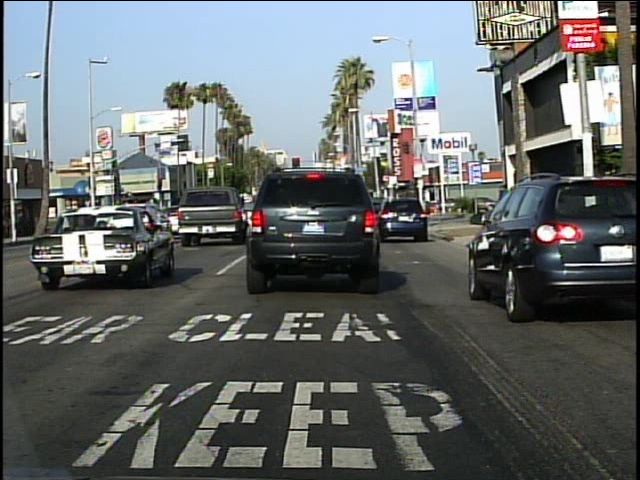car: (457, 168, 633, 322), (249, 174, 383, 295), (30, 210, 180, 285), (177, 185, 252, 246), (379, 198, 428, 240)
